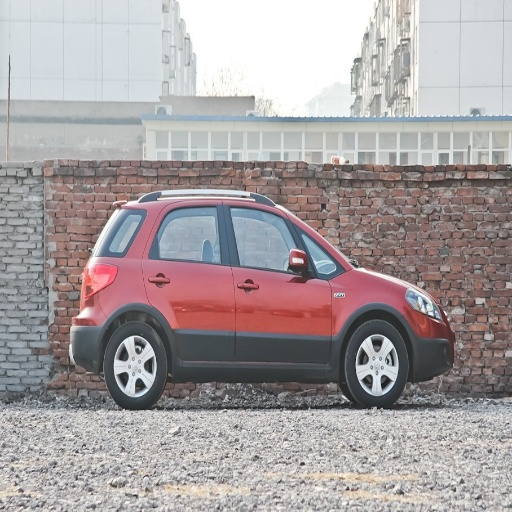back_right_door: (143, 199, 235, 364)
front_right_door: (225, 200, 336, 364)
